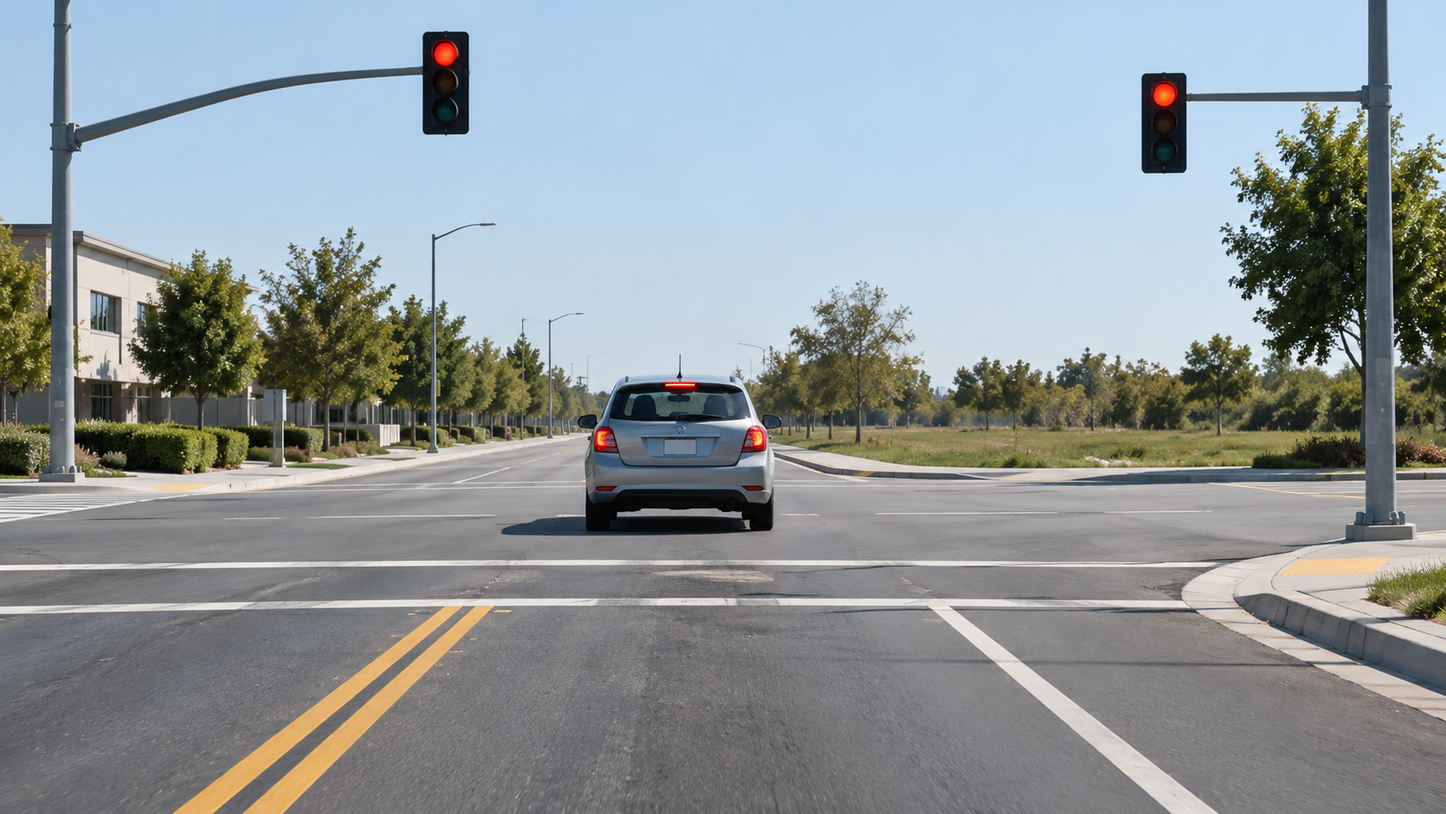car: (585, 370, 777, 531)
traffic_light: (422, 31, 470, 136), (1139, 73, 1185, 172)
zebra_crossing: (0, 449, 156, 479)
